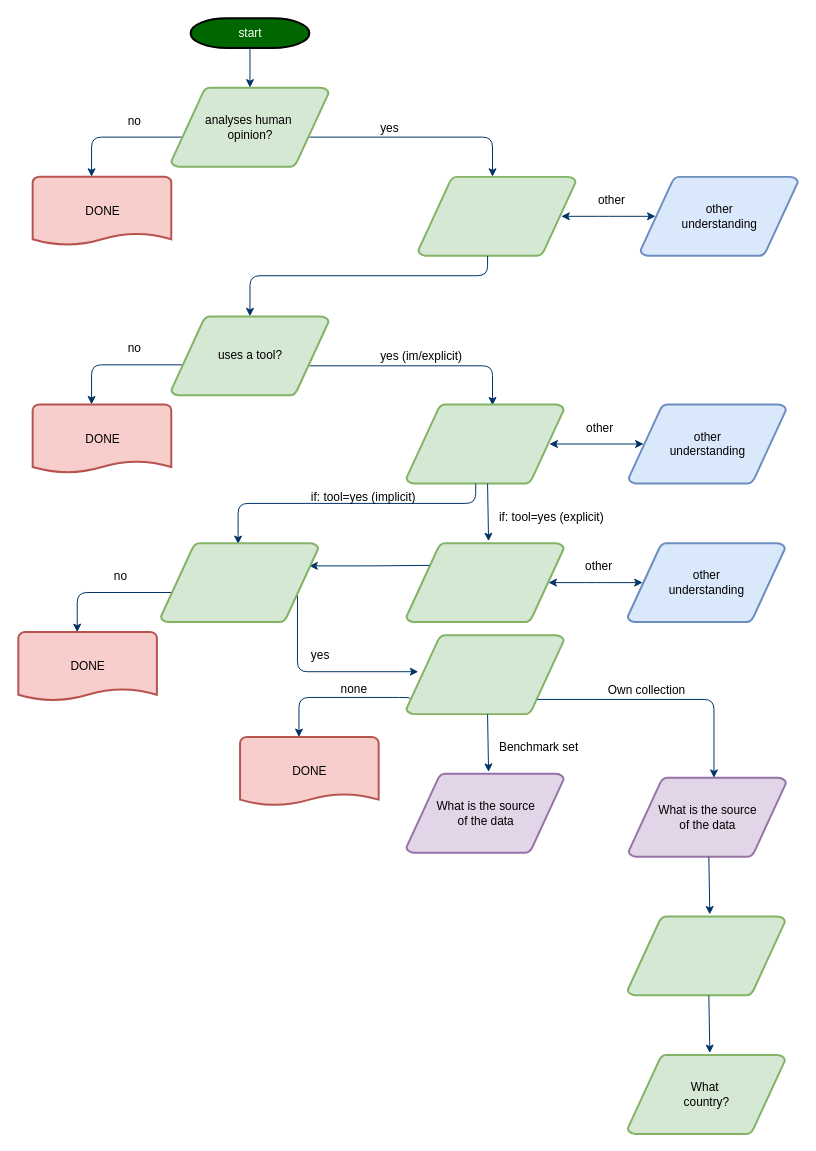
Image size: 816x1151. Some labels were removed from this diagram. Here are the shapes that lost their labels. From the top down, the centre of each, then its label:
At (x=496, y=215): "understanding of opinion (dropdown)".
At (x=484, y=443): "measurment approach (dropdown)".
At (x=239, y=582): "mentions data(set)?".
At (x=484, y=582): "What tool? (dropdown)".
At (x=484, y=674): "What kind of dataset? (dropdown)".
At (x=706, y=955): "What language?".
